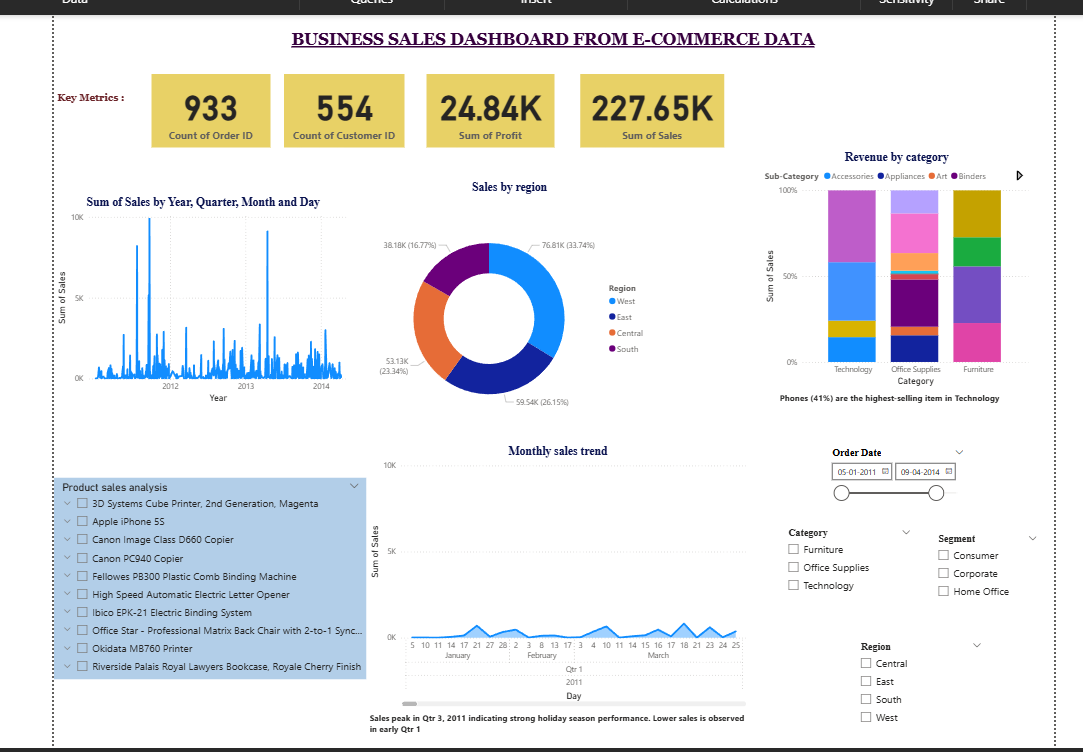

This screenshot's page, from the dashboard's own definition file:
{"tool":"powerbi","page":{"name":"Page 1","canvas":[1600,1200],"ordinal":0},"visuals":[{"type":"lineChart","fields":{"Category":["Orders.Order Date.Variation.Date Hierarchy.Year","Orders.Order Date.Variation.Date Hierarchy.Quarter","Orders.Order Date.Variation.Date Hierarchy.Month","Orders.Order Date.Variation.Date Hierarchy.Day"],"Y":["Sum(Orders.Sales)"]},"box":[0,290,477.5,337.5],"z":0},{"type":"slicer","fields":{"Values":["Orders.Product Name","Orders.Sales","Orders.Category","Orders.Region","Orders.Order Date"]},"box":[0,742.5,500,322.5],"z":1000},{"type":"lineChart","title":"Monthly sales trend","fields":{"Category":["Orders.Order Date.Variation.Date Hierarchy.Year","Orders.Order Date.Variation.Date Hierarchy.Quarter","Orders.Order Date.Variation.Date Hierarchy.Month","Orders.Order Date.Variation.Date Hierarchy.Day"],"Y":["Sum(Orders.Sales)"]},"box":[500,687.5,612.5,425],"z":2000},{"type":"hundredPercentStackedColumnChart","title":"Revenue by category","fields":{"Category":["Orders.Category"],"Y":["Sum(Orders.Sales)"],"Series":["Orders.Sub-Category"]},"box":[1132.5,217.5,432.5,382.5],"z":4000},{"type":"textbox","box":[1155,600,390,40],"z":5000},{"type":"donutChart","title":"Sales by region","fields":{"Category":["Orders.Region"],"Y":["Sum(Orders.Sales)"]},"box":[500,265,457.5,422.5],"z":6000},{"type":"card","fields":{"Values":["Sum(Orders.Sales)"]},"box":[842.5,95,230,117.5],"z":7000},{"type":"card","fields":{"Values":["Sum(Orders.Profit)"]},"box":[595,95,205,117.5],"z":8000},{"type":"card","fields":{"Values":["CountNonNull(Orders.Order ID)"]},"box":[155,95,190,117.5],"z":9000},{"type":"card","fields":{"Values":["Count(Orders.Customer ID)"]},"box":[367.5,95,192.5,117.5],"z":10000},{"type":"textbox","box":[342.5,20,912.5,75],"z":11000},{"type":"textbox","box":[0,120,155,35],"z":12000},{"type":"textbox","box":[500,1112.5,610,65],"z":12001},{"type":"slicer","fields":{"Values":["Orders.Order Date"]},"box":[1232.5,687.5,235,175],"z":12002},{"type":"slicer","fields":{"Values":["Orders.Category"]},"box":[1162.5,815,220,187.5],"z":12003},{"type":"slicer","fields":{"Values":["Orders.Region"]},"box":[1277.5,997.5,217.5,180],"z":12004},{"type":"slicer","fields":{"Values":["Orders.Segment"]},"box":[1402.5,825,182.5,160],"z":12005}]}

Visuals, with their boxes on the page's 1600x1200 design canvas (x1, y1, x2, y2). These are canvas units, not pixel positions in the 1083x752 screenshot, which may show the page scaled, cropped or inside an application window:
lineChart - Orders.Order Date.Variation.Date Hierarchy.Year x Orders.Order Date.Variation.Date Hierarchy.Quarter: (0,290,478,628)
slicer - Orders.Product Name x Orders.Sales: (0,742,500,1065)
"Monthly sales trend" lineChart: (500,688,1112,1112)
"Revenue by category" hundredPercentStackedColumnChart: (1132,218,1565,600)
textbox: (1155,600,1545,640)
"Sales by region" donutChart: (500,265,958,688)
card - Sum(Orders.Sales): (842,95,1072,212)
card - Sum(Orders.Profit): (595,95,800,212)
card - CountNonNull(Orders.Order ID): (155,95,345,212)
card - Count(Orders.Customer ID): (368,95,560,212)
textbox: (342,20,1255,95)
textbox: (0,120,155,155)
textbox: (500,1112,1110,1178)
slicer - Orders.Order Date: (1232,688,1468,862)
slicer - Orders.Category: (1162,815,1382,1002)
slicer - Orders.Region: (1278,998,1495,1178)
slicer - Orders.Segment: (1402,825,1585,985)
